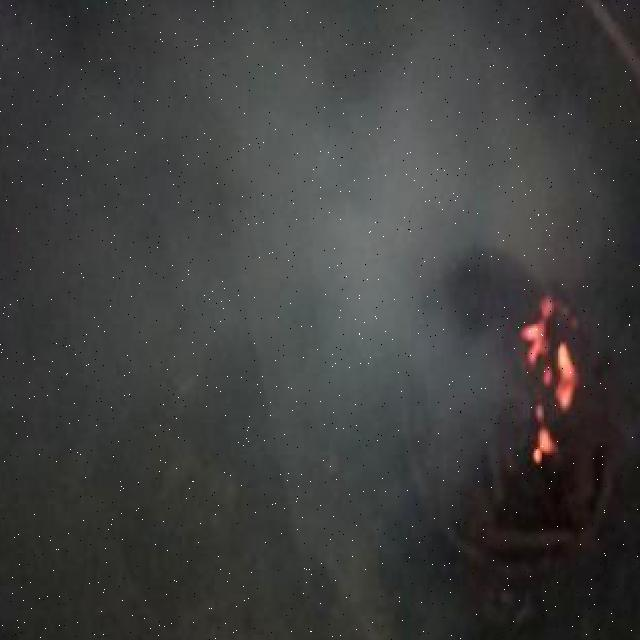fire: (521, 281, 587, 455)
smoke: (10, 76, 503, 572)
